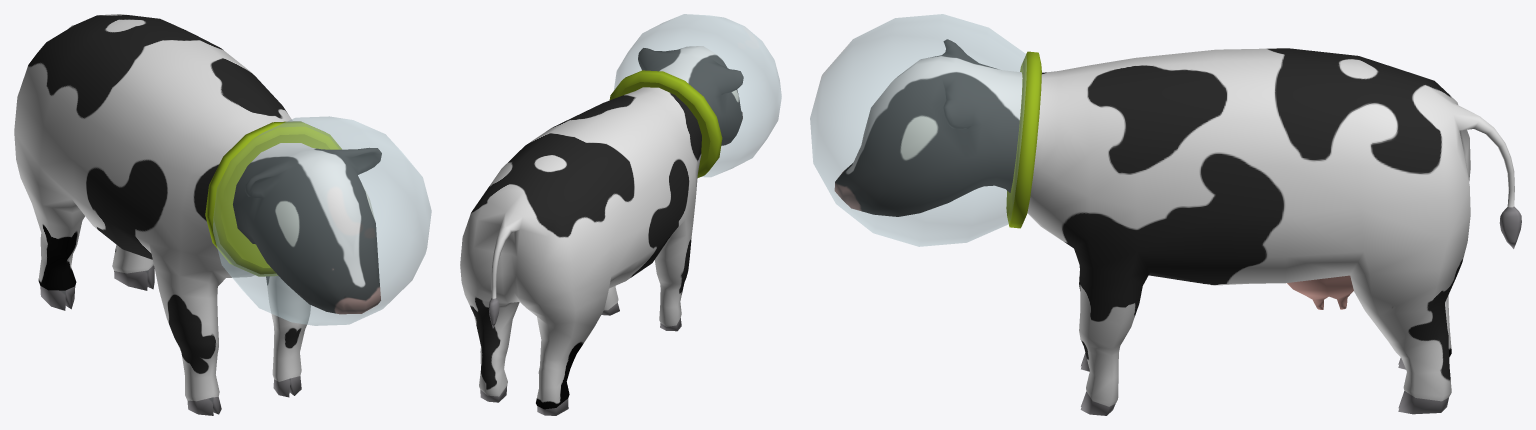
File: GameJam_Cow.FBX
3 views of the same model, side by side, from view 1: azimuth 30°, elevation 25°; view 2: azimuth 150°, elevation 25°; view 3: azimuth 270°, elevation 25° (orthographic). The views are drawn at different scales.
Parts seen in each view (by area): view 1: Object001, Cow; view 2: Object001, Cow; view 3: Object001, Cow.
Boxes of the visible parts, bbox=[...] form: Object001: bbox=[14, 14, 381, 415]; Cow: bbox=[213, 116, 431, 325]; Object001: bbox=[460, 46, 743, 415]; Cow: bbox=[613, 14, 781, 177]; Object001: bbox=[834, 39, 1521, 415]; Cow: bbox=[810, 14, 1026, 246].
Bounding box in the file's own units: 31.04 × 51.38 × 91.41.
